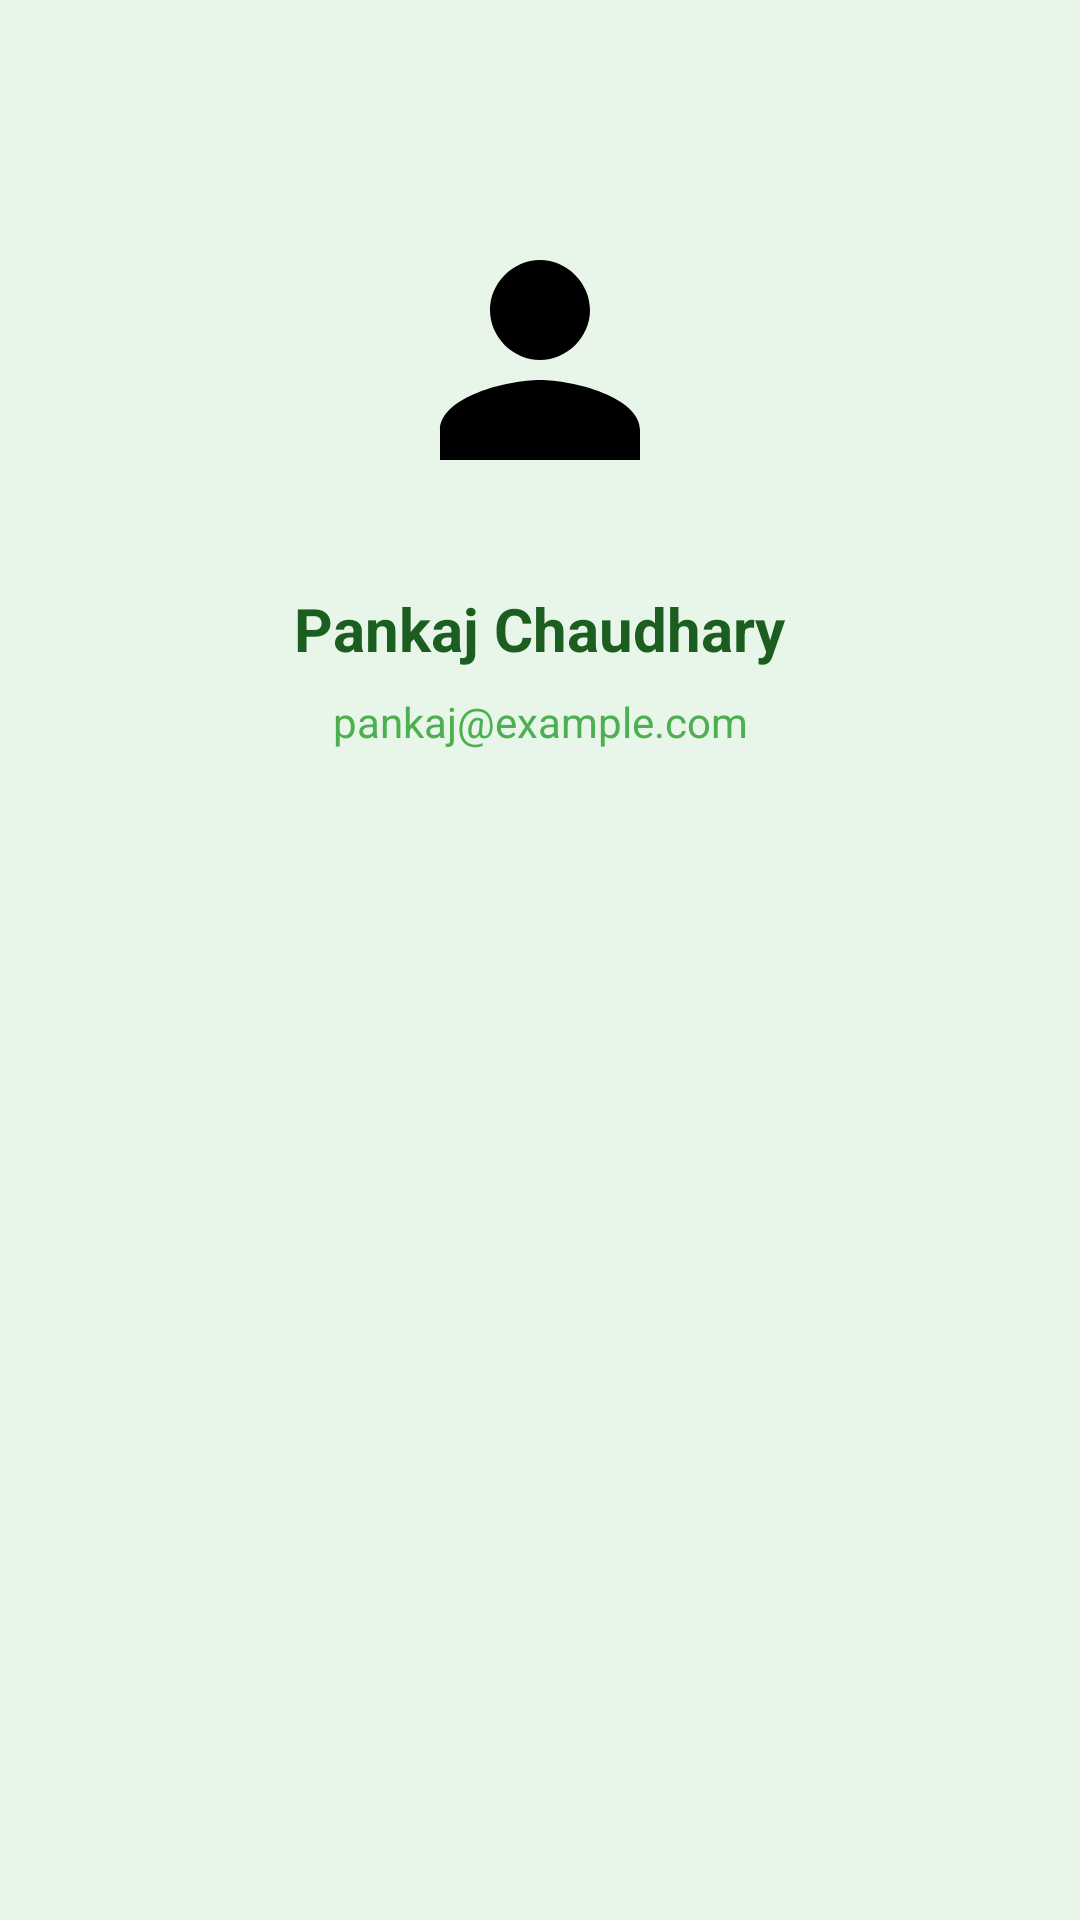

Named icons in this screenshot (1080×1920) and their bounding boxes, BBox(x1, y1, x2, y2):
profile: BBox(440, 260, 640, 460)
